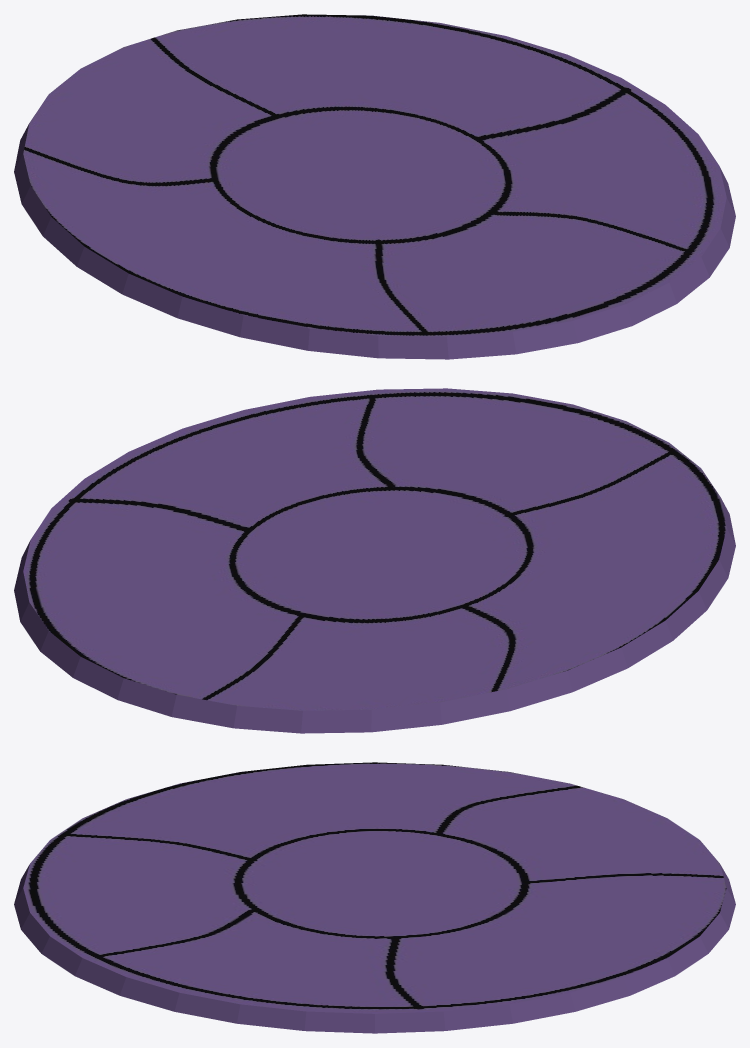
File: Alfombra.obj
3 views of the same model, one above another, from view 1: azimuth 30°, elevation 25°; view 2: azimuth 150°, elevation 25°; view 3: azimuth 270°, elevation 25° (orthographic). The views are drawn at different scales.
Visible parts, largest first — view 1: Círculo; view 2: Círculo; view 3: Círculo.
Boxes of the visible parts, x1,y1,x2,y2 form: Círculo: (14, 14, 735, 359); Círculo: (14, 388, 735, 733); Círculo: (14, 762, 735, 1033).
Size of the model in its own units: 1.18 by 0.035 by 1.4.
1 material, 1 textured.
